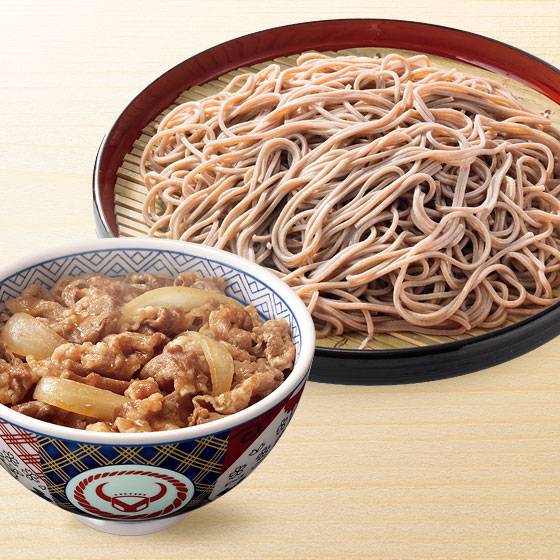Soba: (137, 73, 551, 345)
